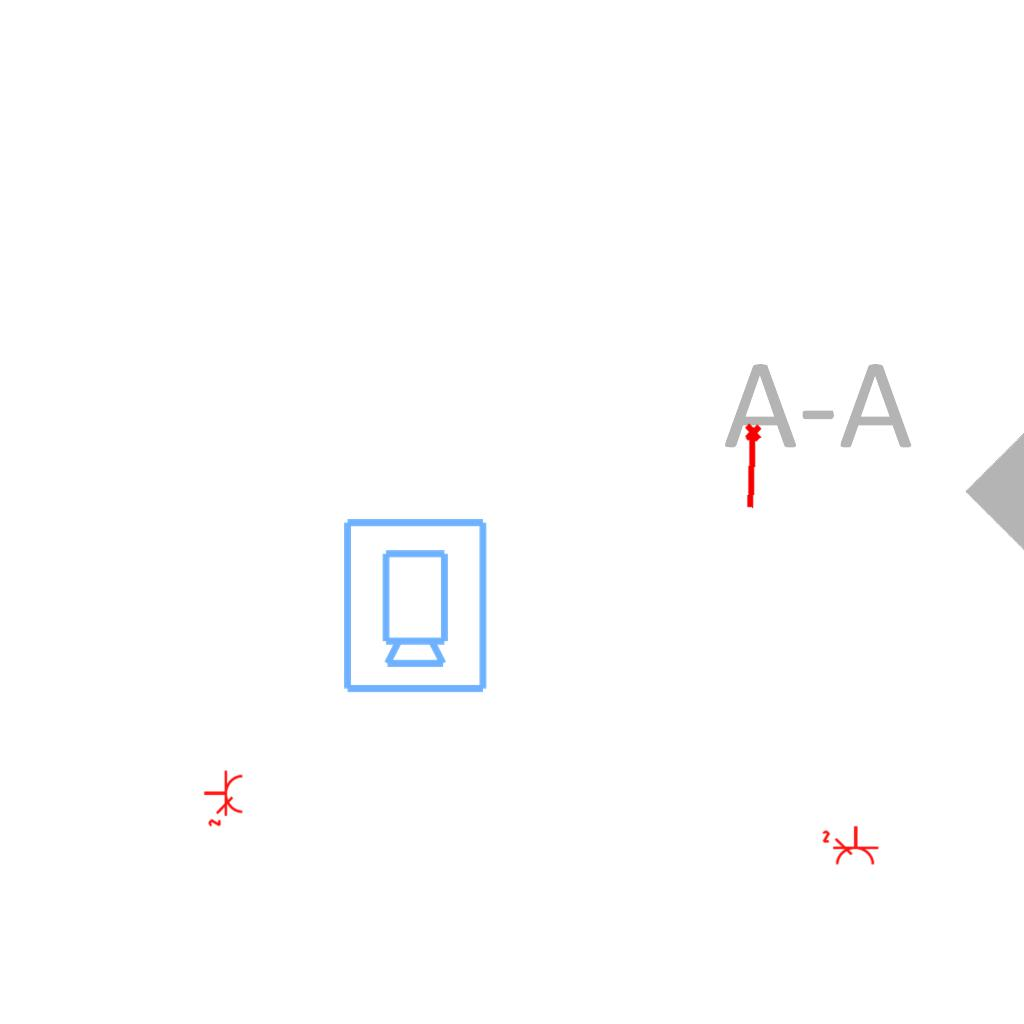ASR_Ansaugoeffnung: (739, 422, 767, 511)
KFO_Kamera_mit_Festobjektiv: (337, 514, 491, 696)
Schukosteckdose_mehrfach: (821, 823, 881, 867), (201, 768, 245, 828)
